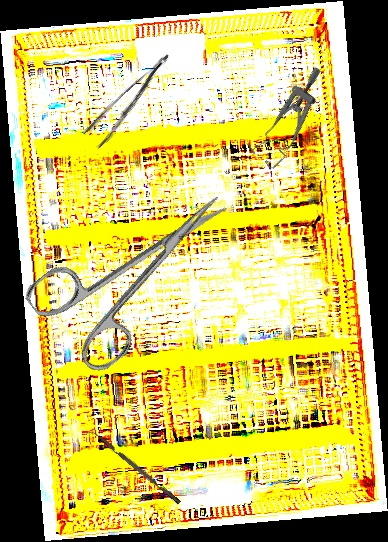Chopper: (84, 426, 182, 509)
Dressing Forceps: (80, 51, 184, 151)
Iris Scissors: (20, 161, 260, 382)
Speculum: (238, 64, 348, 173)
